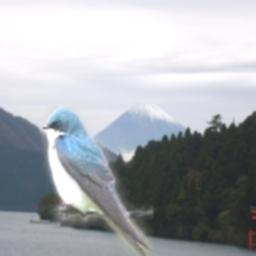Swallow: (39, 106, 153, 256)
